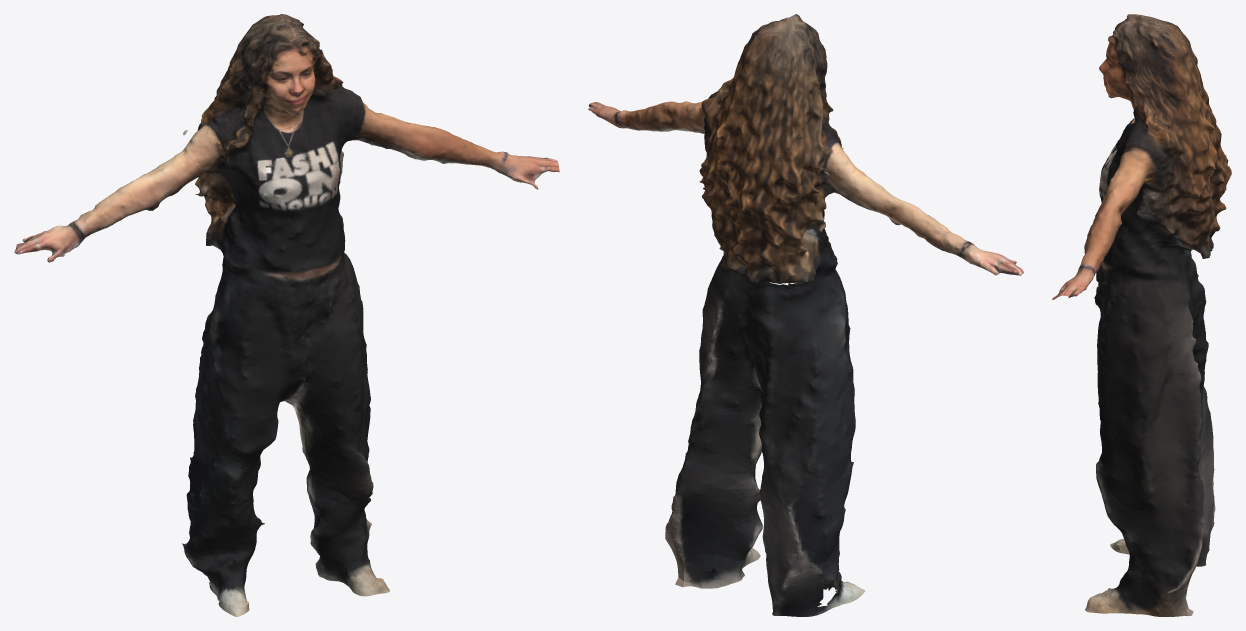
3 views of the same model, side by side, from view 1: azimuth 30°, elevation 25°; view 2: azimuth 150°, elevation 25°; view 3: azimuth 270°, elevation 25° (orthographic). The views are drawn at different scales.
Parts seen in each view (by area): view 1: mesh; view 2: mesh; view 3: mesh.
Boxes of the visible parts, x1,y1,x2,y2 form: mesh: (14, 14, 559, 616); mesh: (588, 14, 1023, 616); mesh: (1052, 14, 1231, 616).
Size of the model in its own units: 1.46 by 1.63 by 0.4752.
1 material, 1 textured.
